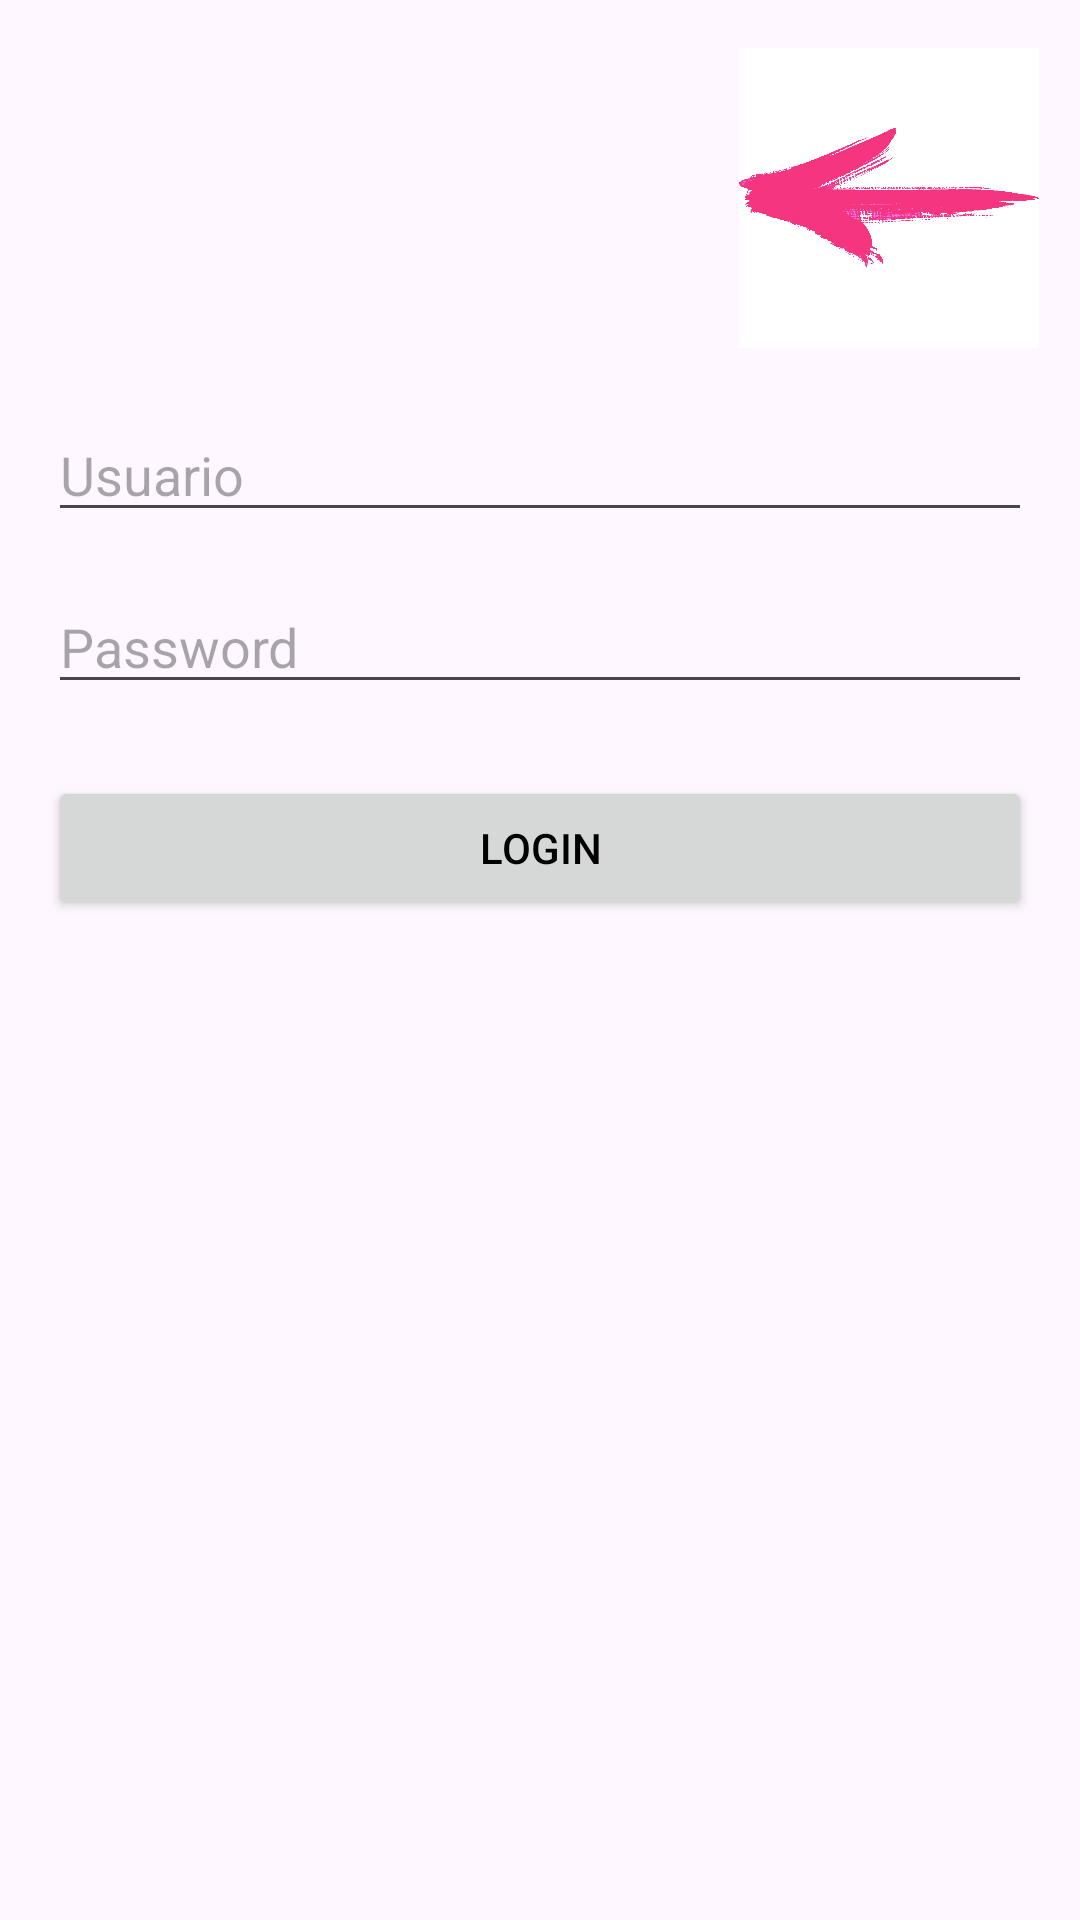

Where icons sit on this 1080x1920 app screen, as (x1, y1, x2, y2):
botón de flecha atrás: (739, 128, 1039, 268)
